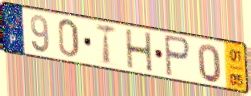0: (196, 42, 223, 85), (56, 18, 81, 61)
9: (29, 13, 51, 55)
H: (124, 28, 155, 74)
P: (162, 33, 192, 79)
T: (95, 22, 118, 67)
